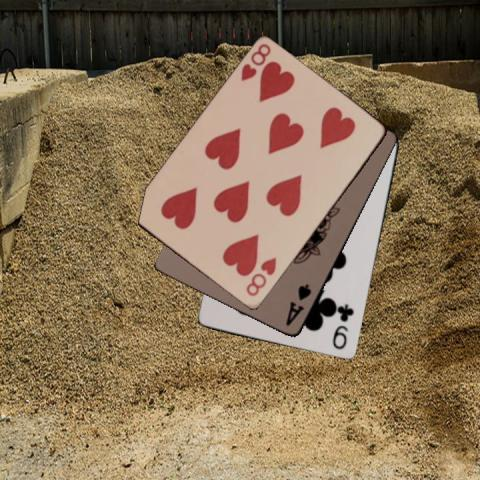8h: (243, 254, 278, 299), (237, 41, 273, 83)
9c: (331, 301, 355, 352)
As: (283, 281, 313, 328)
